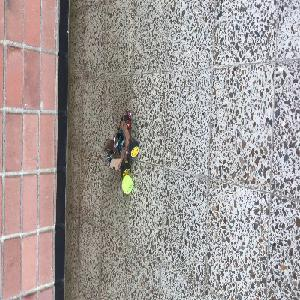Ball: (122, 176, 132, 194)
Robot: (102, 114, 140, 175)
